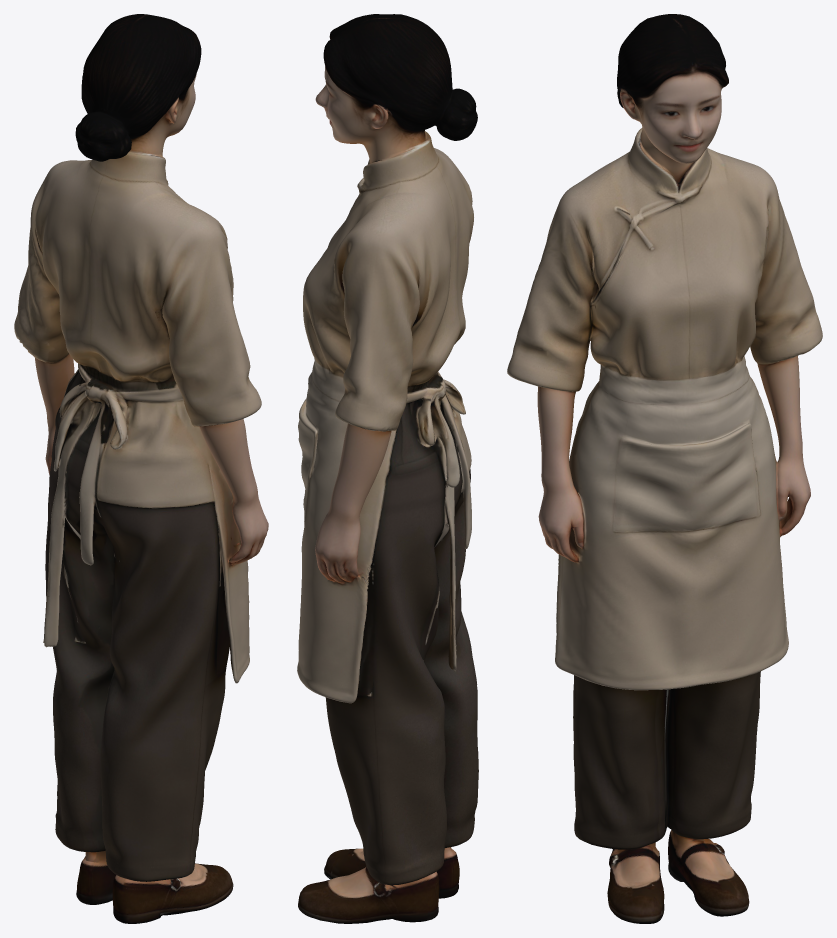
The picture shows the model from 3 angles, left to right: view 1: azimuth 30°, elevation 25°; view 2: azimuth 150°, elevation 25°; view 3: azimuth 270°, elevation 25°; orthographic projection.
Visible parts, largest first — view 1: tripo_node_5bd768a3; view 2: tripo_node_5bd768a3; view 3: tripo_node_5bd768a3.
Part boxes in pixels (x1,y1,x2,y2): tripo_node_5bd768a3: (14,14,268,923); tripo_node_5bd768a3: (297,14,478,923); tripo_node_5bd768a3: (507,14,822,923).
Bounding box in the file's own units: 0.192 × 0.9795 × 0.3217.
